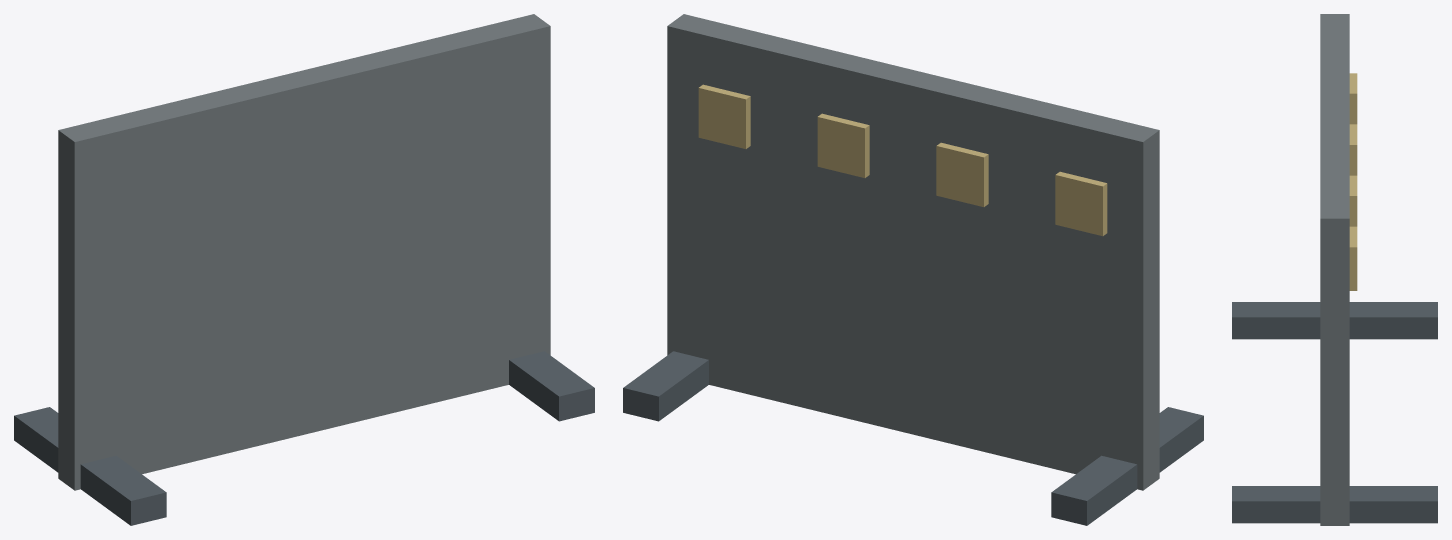
File: steel_barricade.glb
The picture shows the model from 3 angles, left to right: view 1: azimuth 30°, elevation 25°; view 2: azimuth 150°, elevation 25°; view 3: azimuth 270°, elevation 25°; orthographic projection. The views are drawn at different scales.
Parts seen in each view (by area): view 1: body; view 2: body; view 3: body.
Boxes of the visible parts, box(x1,y1,x2,y2) form: body: box(14, 14, 594, 525); body: box(623, 14, 1203, 525); body: box(1232, 14, 1437, 525).
Size of the model in its own units: 2 by 1.4 by 0.85.
